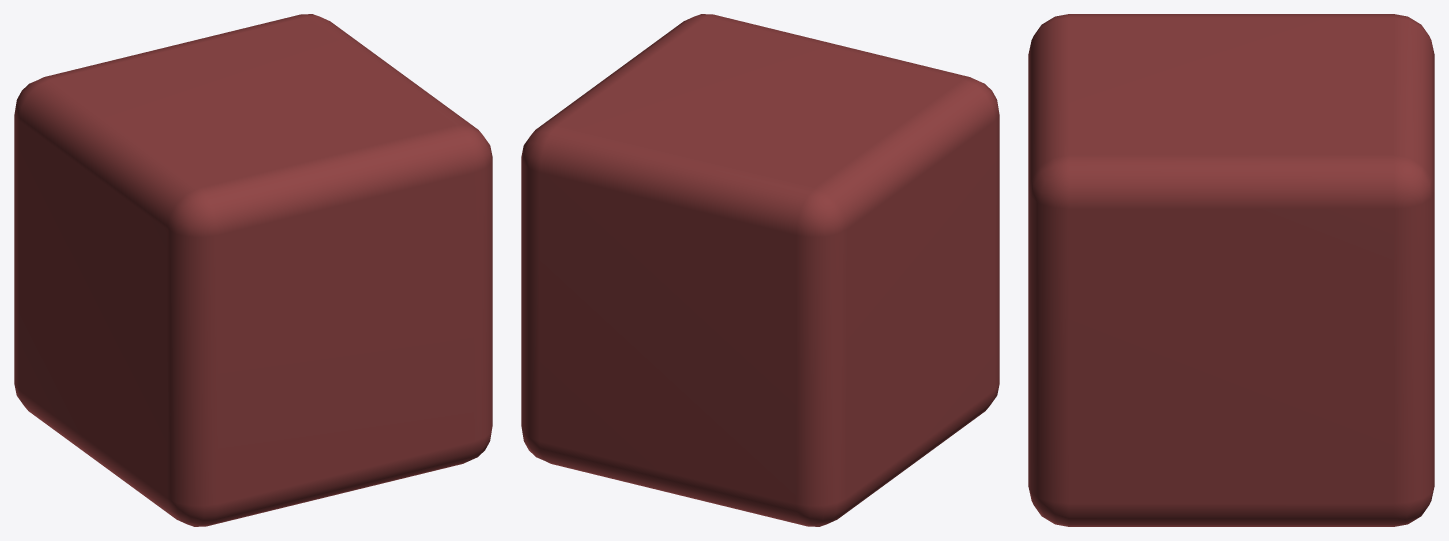
File: cube_smooth.fbx
The picture shows the model from 3 angles, left to right: view 1: azimuth 30°, elevation 25°; view 2: azimuth 150°, elevation 25°; view 3: azimuth 270°, elevation 25°; orthographic projection. The views are drawn at different scales.
Visible parts, largest first — view 1: cube_smooth; view 2: cube_smooth; view 3: cube_smooth.
Boxes of the visible parts, <box> form: cube_smooth: <box>14,14,492,526</box>; cube_smooth: <box>521,14,999,526</box>; cube_smooth: <box>1028,14,1434,526</box>.
Bounding box in the file's own units: 1 × 1 × 1.
